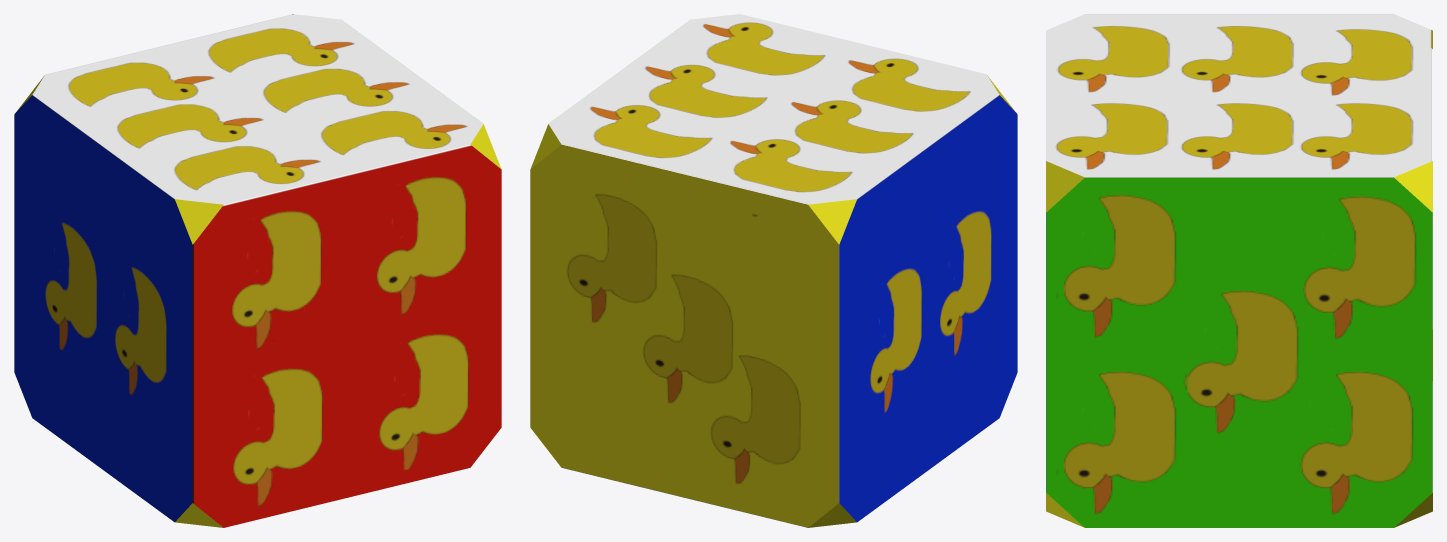
The model's file is DrMalloyDice_d6.glb.
3 views of the same model, side by side, from view 1: azimuth 30°, elevation 25°; view 2: azimuth 150°, elevation 25°; view 3: azimuth 270°, elevation 25° (orthographic). The views are drawn at different scales.
Parts seen in each view (by area): view 1: Cube; view 2: Cube; view 3: Cube.
Part boxes in pixels (x1,y1,x2,y2): Cube: [14, 14, 501, 527]; Cube: [530, 14, 1017, 527]; Cube: [1046, 14, 1432, 527].
Size of the model in its own units: 110 by 110 by 110.
Materials: 3 (1 with a texture image).
